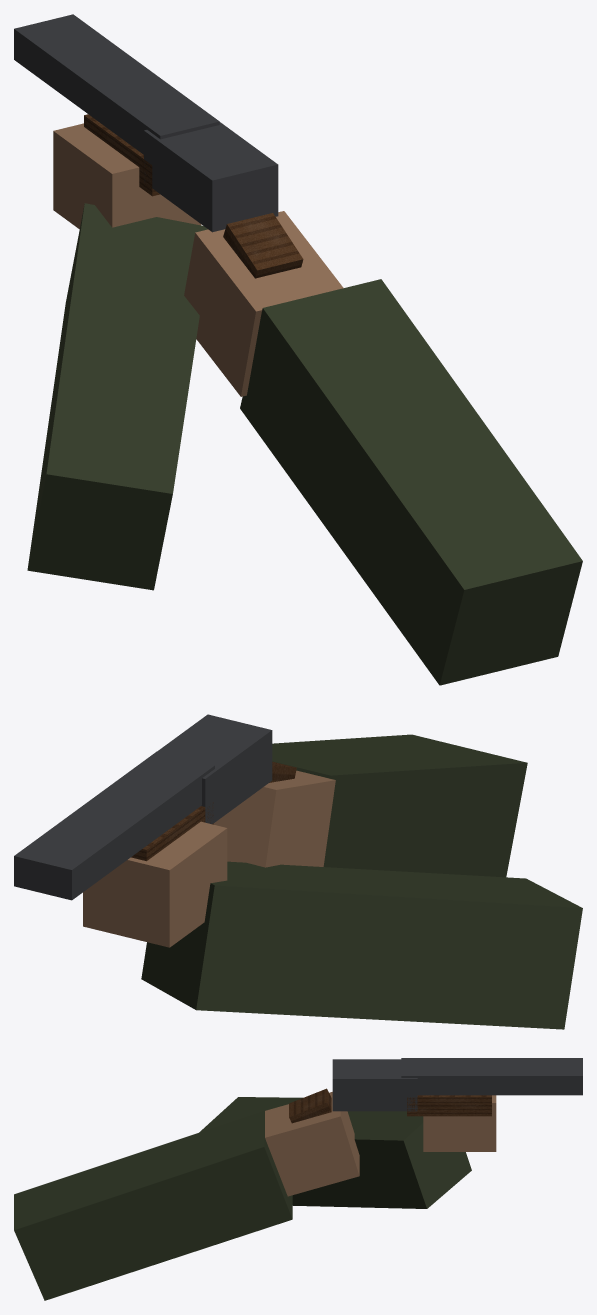
Rendered from sawed.glb.
3 views of the same model, one above another, from view 1: azimuth 30°, elevation 25°; view 2: azimuth 150°, elevation 25°; view 3: azimuth 270°, elevation 25° (orthographic). The views are drawn at different scales.
Visible parts, largest first — view 1: sawed_3, sawed_0, sawed_2, sawed_1; view 2: sawed_3, sawed_0, sawed_2, sawed_1; view 3: sawed_3, sawed_0, sawed_2, sawed_1.
Part boxes in pixels (x1,y1,x2,y2): sawed_3: (27,203,582,685); sawed_0: (14,14,278,232); sawed_2: (53,123,343,396); sawed_1: (84,114,303,278); sawed_3: (141,734,582,1029); sawed_0: (14,714,272,900); sawed_2: (83,770,335,947); sawed_1: (131,761,296,861); sawed_3: (14,1097,471,1300); sawed_0: (332,1058,582,1111); sawed_2: (265,1092,496,1196); sawed_1: (289,1088,491,1123).
Size of the model in its own units: 0.4821 by 0.437 by 1.08.
4 materials, 1 textured.
